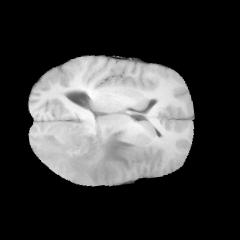glioma: (35, 126, 135, 184)
